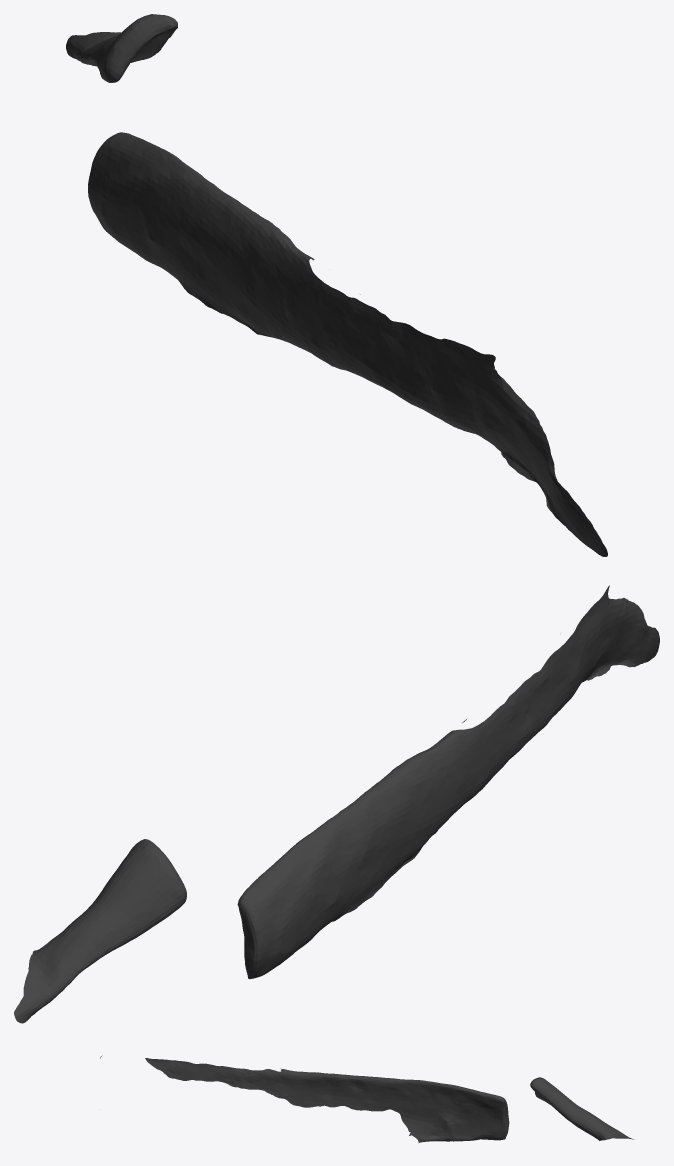
The model's file is musc_flexor_carpi_ulnaris.glb.
3 renders of one model, top to bottom at view 1: azimuth 30°, elevation 25°; view 2: azimuth 150°, elevation 25°; view 3: azimuth 270°, elevation 25°, orthographic. The views are drawn at different scales.
Visible parts, largest first — view 1: musc_flexor_carpi_ulnaris; view 2: musc_flexor_carpi_ulnaris; view 3: musc_flexor_carpi_ulnaris.
Part boxes in pixels (x1=…): musc_flexor_carpi_ulnaris: x1=66, y1=14, x2=607, y2=556; musc_flexor_carpi_ulnaris: x1=14, y1=585, x2=659, y2=1023; musc_flexor_carpi_ulnaris: x1=100, y1=1055, x2=633, y2=1142.
Bounding box in the file's own units: 0.1027 × 0.092 × 0.6371.
Materials: 1 (1 with a texture image).
